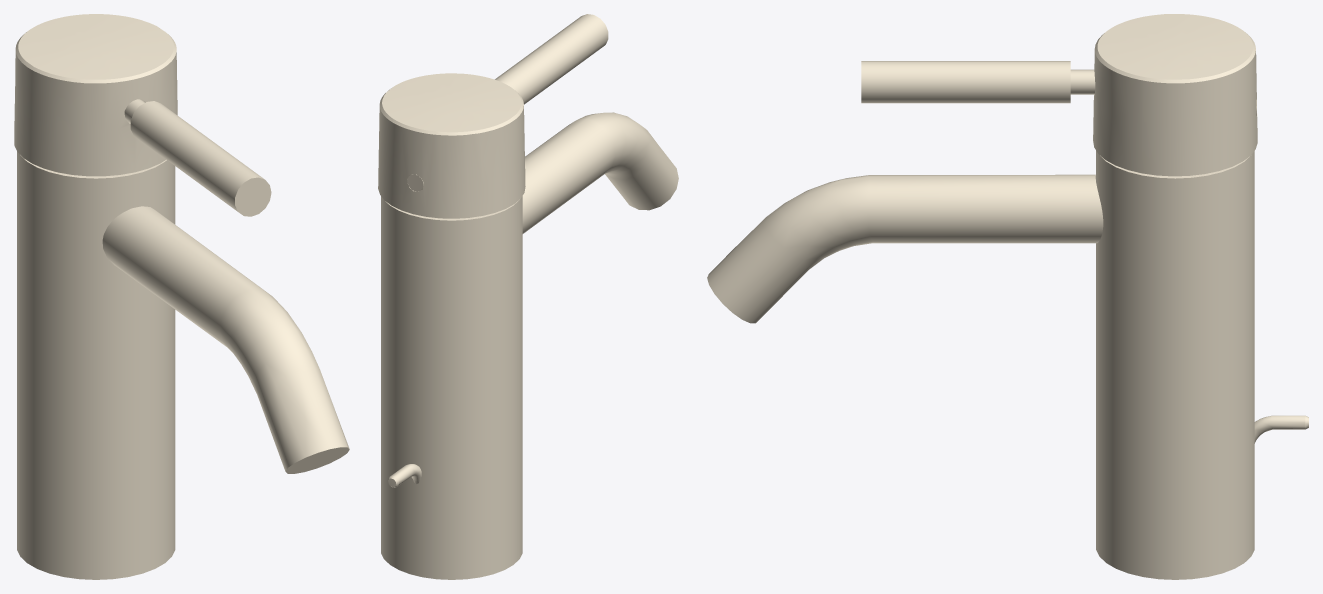
The picture shows the model from 3 angles, left to right: view 1: azimuth 30°, elevation 25°; view 2: azimuth 150°, elevation 25°; view 3: azimuth 270°, elevation 25°; orthographic projection. The views are drawn at different scales.
Visible parts, largest first — view 1: L_5f0e5e2c_48e4_4358_863d_c5d17711d95d_I3, L_eba97abb_d69d_467f_9fb6_ce883ce695e5_I7, L_988a0db4_95fc_456a_949c_9ed2fd407976_I5, L_4fc056a4_26e0_46f9_9d84_6a3c61ff8eb3_I2; view 2: L_5f0e5e2c_48e4_4358_863d_c5d17711d95d_I3, L_988a0db4_95fc_456a_949c_9ed2fd407976_I5, L_eba97abb_d69d_467f_9fb6_ce883ce695e5_I7, L_4fc056a4_26e0_46f9_9d84_6a3c61ff8eb3_I2, L_2e84a2f5_9ee6_4637_9123_485a44de7cbb_I1; view 3: L_5f0e5e2c_48e4_4358_863d_c5d17711d95d_I3, L_eba97abb_d69d_467f_9fb6_ce883ce695e5_I7, L_988a0db4_95fc_456a_949c_9ed2fd407976_I5, L_4fc056a4_26e0_46f9_9d84_6a3c61ff8eb3_I2, L_2e84a2f5_9ee6_4637_9123_485a44de7cbb_I1.
Boxes of the visible parts, x1,y1,x2,y2 form: L_5f0e5e2c_48e4_4358_863d_c5d17711d95d_I3: [17, 151, 175, 579]; L_eba97abb_d69d_467f_9fb6_ce883ce695e5_I7: [102, 206, 349, 473]; L_988a0db4_95fc_456a_949c_9ed2fd407976_I5: [14, 14, 177, 176]; L_4fc056a4_26e0_46f9_9d84_6a3c61ff8eb3_I2: [124, 99, 271, 216]; L_5f0e5e2c_48e4_4358_863d_c5d17711d95d_I3: [381, 196, 522, 579]; L_988a0db4_95fc_456a_949c_9ed2fd407976_I5: [378, 73, 525, 218]; L_eba97abb_d69d_467f_9fb6_ce883ce695e5_I7: [522, 112, 678, 233]; L_4fc056a4_26e0_46f9_9d84_6a3c61ff8eb3_I2: [495, 14, 608, 104]; L_2e84a2f5_9ee6_4637_9123_485a44de7cbb_I1: [388, 464, 421, 487]; L_5f0e5e2c_48e4_4358_863d_c5d17711d95d_I3: [1096, 151, 1254, 579]; L_eba97abb_d69d_467f_9fb6_ce883ce695e5_I7: [707, 174, 1103, 323]; L_988a0db4_95fc_456a_949c_9ed2fd407976_I5: [1093, 14, 1257, 176]; L_4fc056a4_26e0_46f9_9d84_6a3c61ff8eb3_I2: [861, 61, 1095, 103]; L_2e84a2f5_9ee6_4637_9123_485a44de7cbb_I1: [1254, 415, 1308, 443].
Bounding box in the file's own units: 0.0465 × 0.156 × 0.1698.
